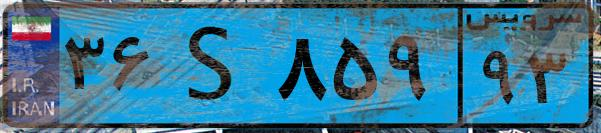3: (57, 26, 110, 100), (525, 38, 570, 115)
5: (330, 28, 385, 110)
6: (110, 28, 158, 98)
8: (270, 28, 330, 110)
9: (385, 28, 445, 110), (475, 38, 525, 113)
S: (158, 12, 270, 120)
